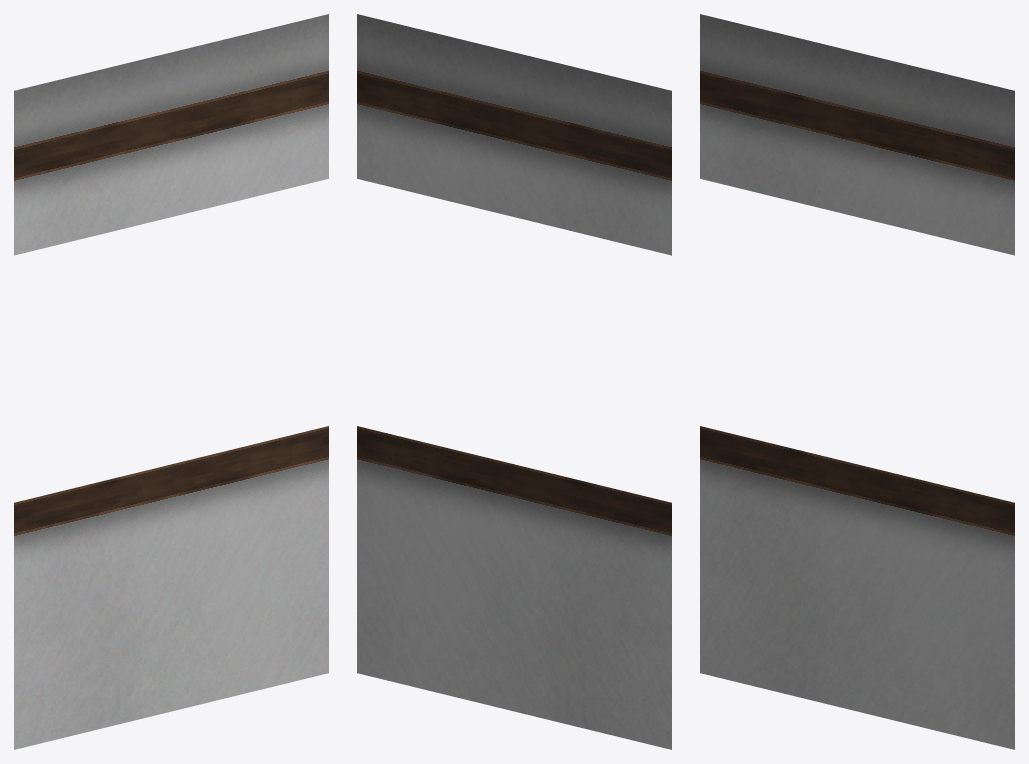
Rendered from house_big_window_wall_b.glb.
3 views of the same model, side by side, from view 1: azimuth 30°, elevation 25°; view 2: azimuth 150°, elevation 25°; view 3: azimuth 330°, elevation 25° (orthographic).
Visible parts, largest first — view 1: house_big_window_wall_b; view 2: house_big_window_wall_b; view 3: house_big_window_wall_b.
Part boxes in pixels (x1,y1,x2,y2): house_big_window_wall_b: (14,14,328,749); house_big_window_wall_b: (357,14,671,749); house_big_window_wall_b: (700,14,1014,749).
Bounding box in the file's own units: 2 × 4 × 0.
1 material, 1 textured.
